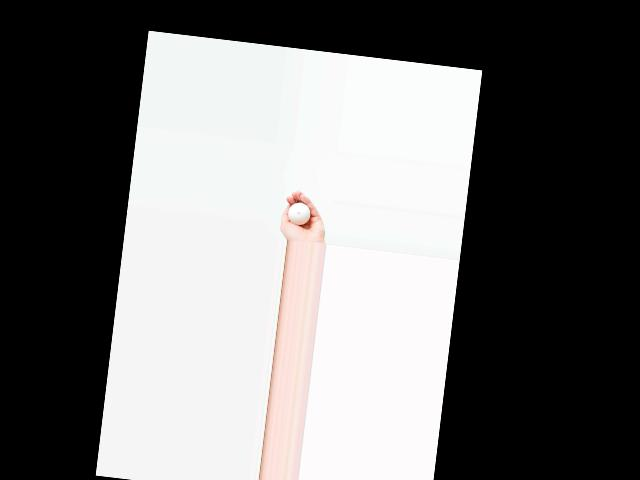egg: (287, 201, 311, 225)
